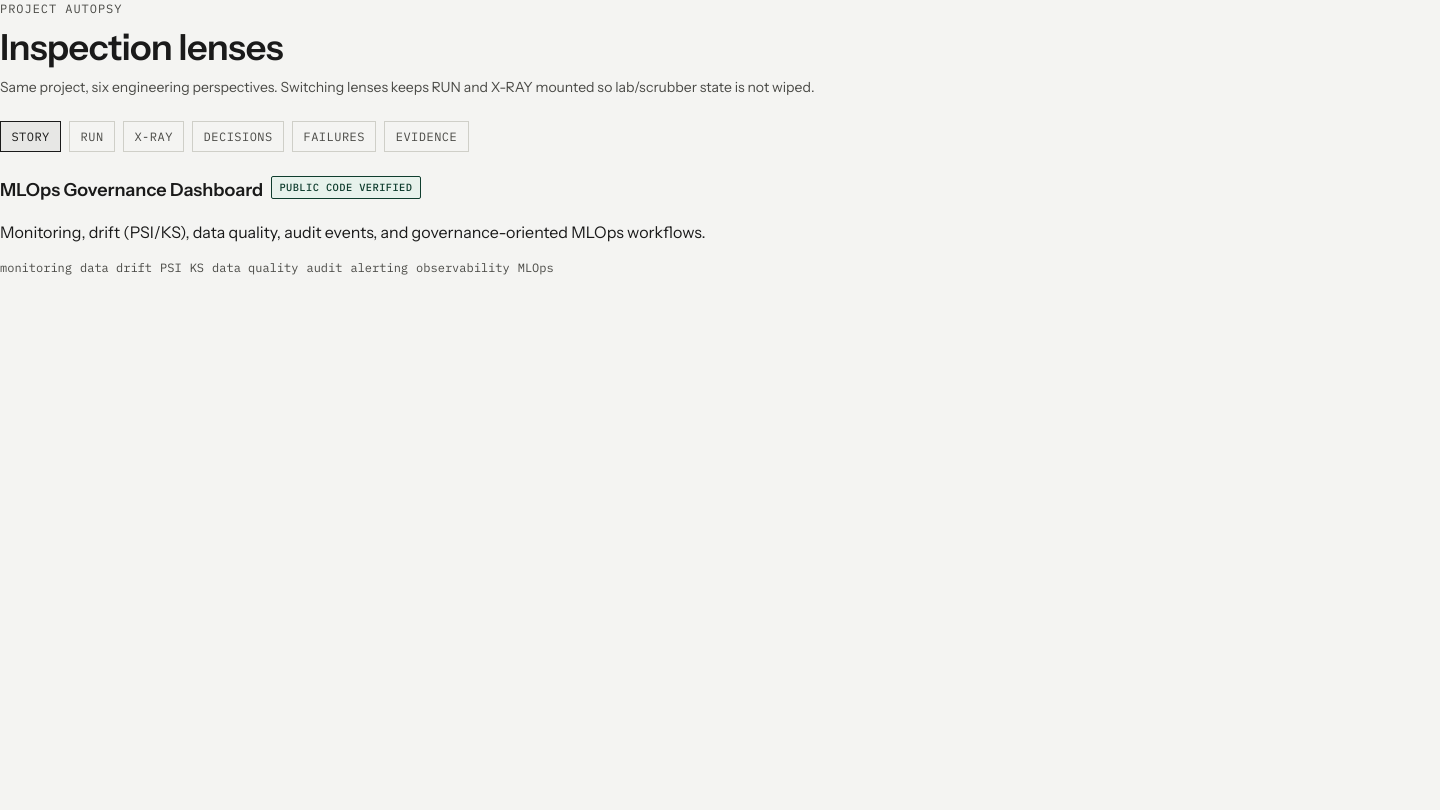
Test case: ProjectAutopsy (M10) › opens Source Trace from a DECISIONS claim
The width and height of the screenshot is (1440, 810).
Click the tab "DECISIONS" at {"x": 238, "y": 137}, box [192,121,284,152]
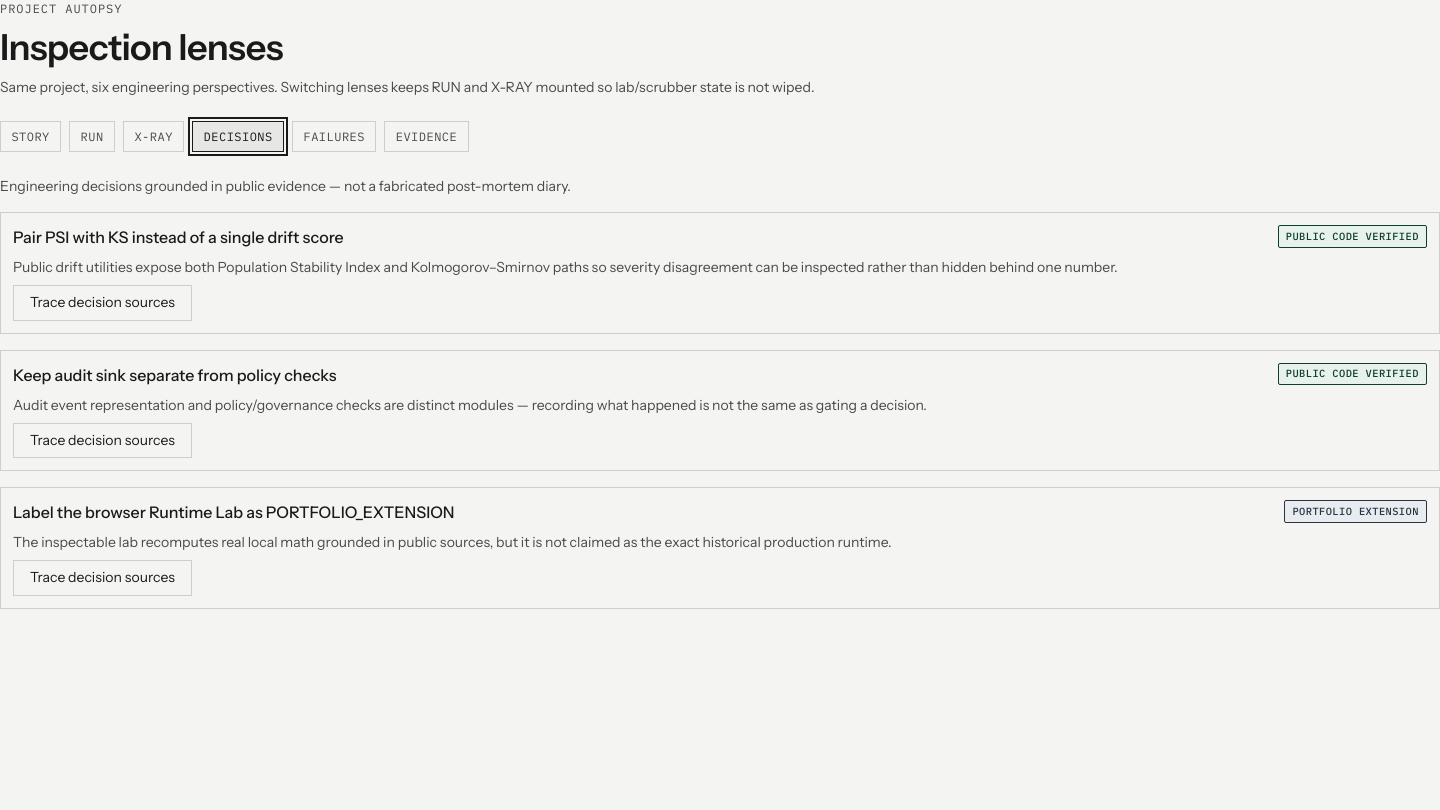
Check: the 1st button "Trace decision sources" is shown
Click the 1st button "Trace decision sources" at {"x": 102, "y": 303}, box [13,285,192,321]
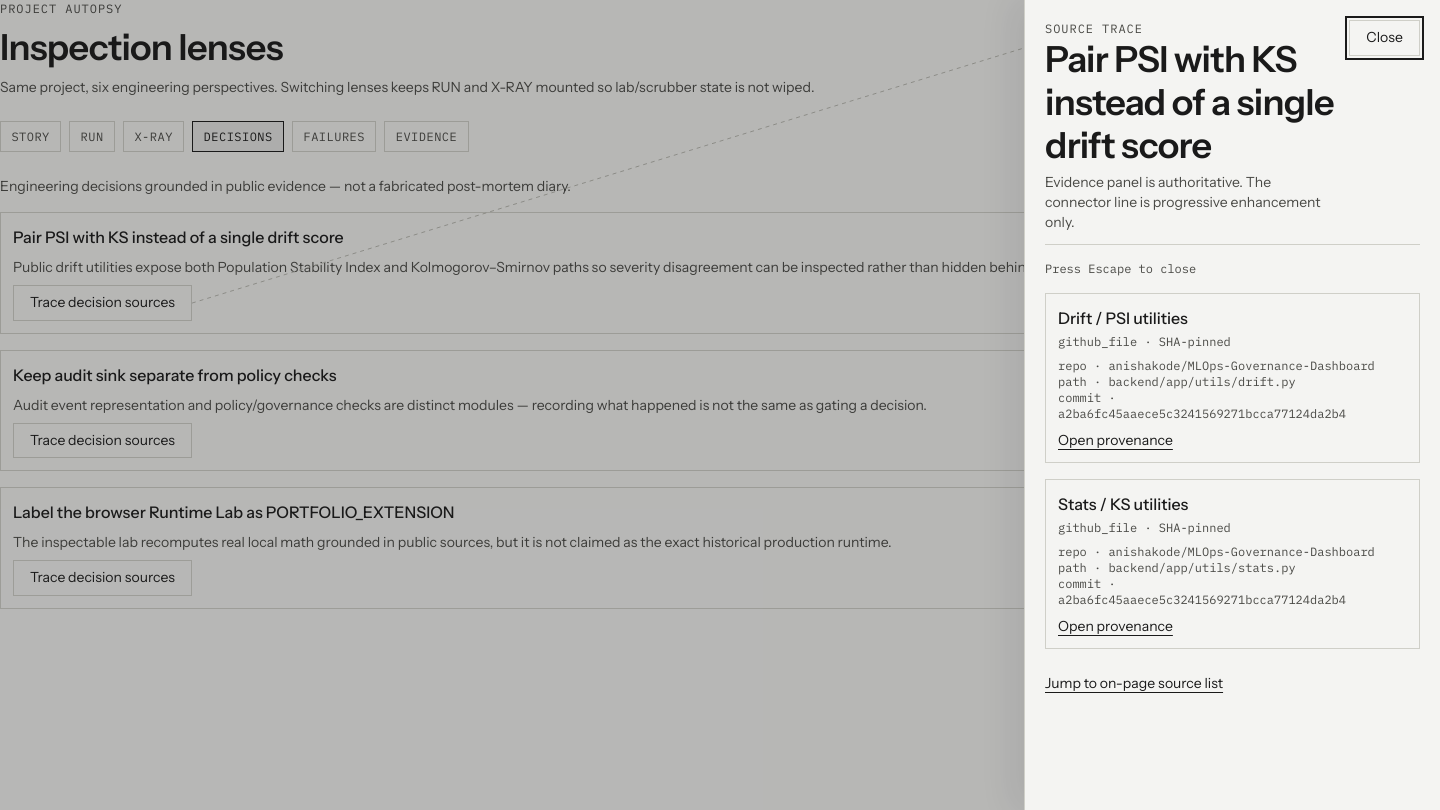
Check: the dialog is shown, box [1024,0,1439,809]
